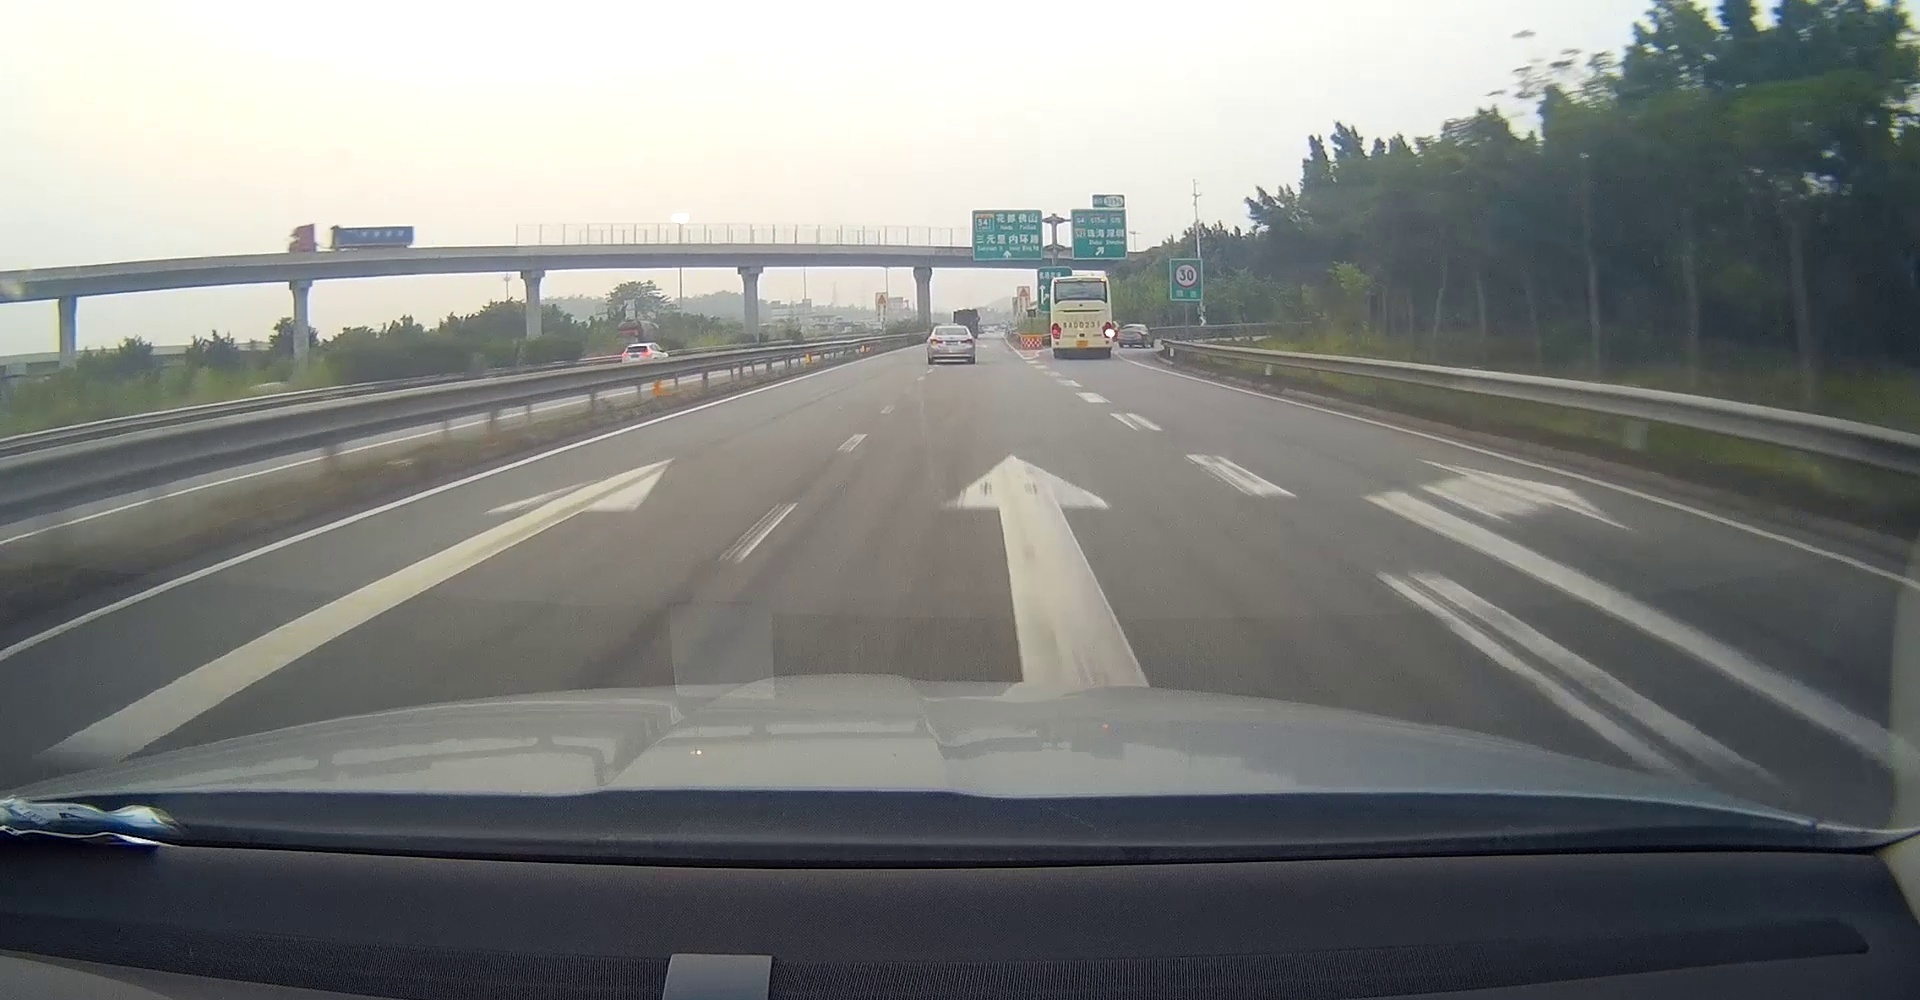L_light: (1051, 324, 1062, 339), (930, 339, 943, 345), (622, 353, 629, 358)
R_light: (1103, 322, 1114, 338), (961, 339, 973, 345), (643, 352, 650, 358)
T_light: (1069, 294, 1090, 298), (949, 327, 956, 329)
day-no: (926, 326, 975, 364), (622, 343, 651, 369)
day-right: (1050, 275, 1115, 359)
